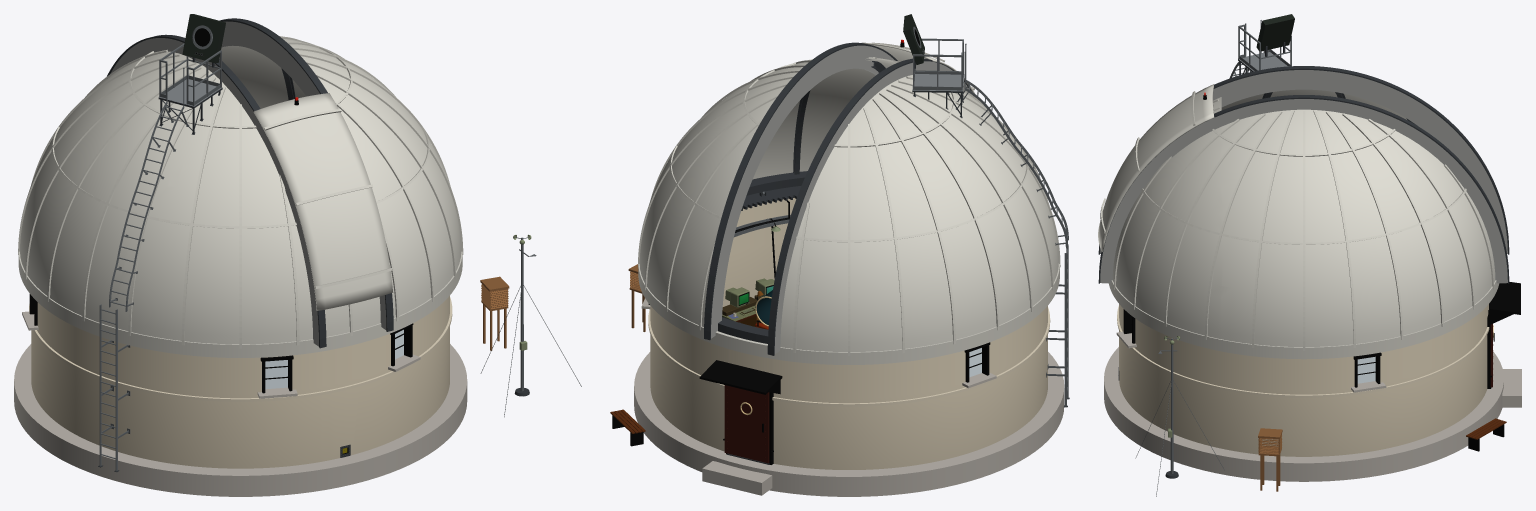
Rendered from observatory.glb.
3 views of the same model, side by side, from view 1: azimuth 30°, elevation 25°; view 2: azimuth 150°, elevation 25°; view 3: azimuth 270°, elevation 25° (orthographic). The views are drawn at different scales.
Parts seen in each view (by area): view 1: Dome_dome, obs_plaster, obs_stone, Dome_steel, Dome_steel@near, obs_steel@near, obs_wood@near, obs_metal_black, Dome_painted, obs_steel, obs_glass, Dome_plate; view 2: Dome_dome, obs_plaster, Dome_steel, obs_stone, Door_painted, obs_metal_black, obs_steel, Interior_painted@in, Dome_steel@near, obs_wood@near, Dome_plate, Dome_painted; view 3: Dome_dome, obs_plaster, Dome_steel, obs_stone, obs_metal_black, obs_wood@near, Dome_painted, obs_steel@near, Dome_plate.
Boxes of the visible parts, x1=… form: Dome_dome: x1=18, y1=36, x2=463, y2=357; obs_plaster: x1=29, y1=296, x2=452, y2=468; obs_stone: x1=14, y1=311, x2=467, y2=496; Dome_steel: x1=107, y1=18, x2=393, y2=348; Dome_steel@near: x1=110, y1=25, x2=220, y2=306; obs_steel@near: x1=98, y1=244, x2=581, y2=471; obs_wood@near: x1=480, y1=276, x2=509, y2=350; obs_metal_black: x1=29, y1=294, x2=413, y2=454; Dome_painted: x1=182, y1=14, x2=225, y2=62; obs_steel: x1=99, y1=304, x2=117, y2=471; obs_glass: x1=265, y1=329, x2=403, y2=389; Dome_plate: x1=159, y1=79, x2=222, y2=106; Dome_dome: x1=638, y1=42, x2=1060, y2=364; obs_plaster: x1=648, y1=198, x2=1050, y2=469; Dome_steel: x1=704, y1=38, x2=1068, y2=355; obs_stone: x1=634, y1=298, x2=1064, y2=496; Door_painted: x1=724, y1=385, x2=769, y2=463; obs_metal_black: x1=648, y1=304, x2=990, y2=464; obs_steel: x1=727, y1=186, x2=1068, y2=464; Interior_painted@in: x1=722, y1=226, x2=780, y2=327; Dome_steel@near: x1=913, y1=26, x2=1067, y2=245; obs_wood@near: x1=610, y1=264, x2=645, y2=433; Dome_plate: x1=912, y1=74, x2=964, y2=91; Dome_painted: x1=903, y1=14, x2=924, y2=64; Dome_dome: x1=1098, y1=84, x2=1499, y2=359; obs_plaster: x1=1117, y1=304, x2=1489, y2=456; Dome_steel: x1=1098, y1=20, x2=1509, y2=283; obs_stone: x1=1104, y1=331, x2=1521, y2=481; obs_metal_black: x1=1123, y1=282, x2=1520, y2=388; obs_wood@near: x1=1258, y1=418, x2=1506, y2=491; Dome_painted: x1=1256, y1=14, x2=1294, y2=51; obs_steel@near: x1=1118, y1=344, x2=1224, y2=496; Dome_plate: x1=1238, y1=52, x2=1287, y2=71.
Size of what is drawn, in the model's own units: 13.76 by 11.76 by 12.61.
